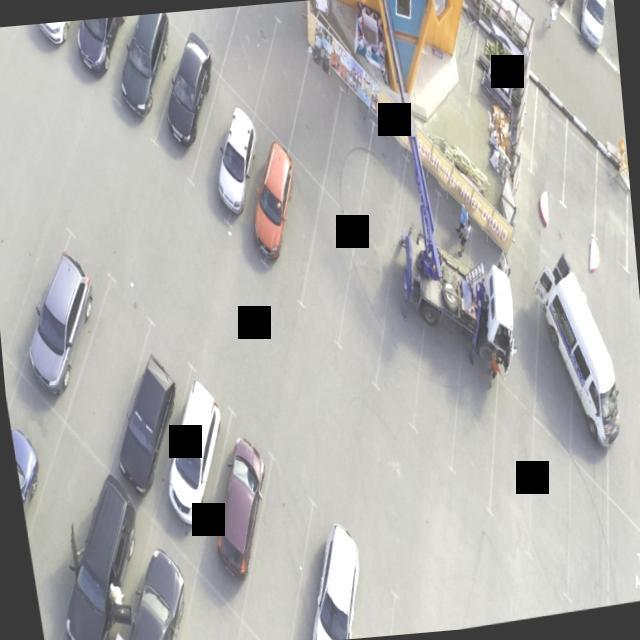car: (132, 348, 259, 557), (165, 404, 298, 598), (29, 462, 162, 640), (86, 328, 205, 516), (408, 320, 522, 508), (8, 227, 114, 416), (269, 482, 389, 640), (346, 261, 448, 436), (233, 156, 334, 331), (205, 116, 306, 286), (392, 307, 487, 464), (138, 35, 234, 186), (479, 240, 559, 420), (520, 278, 598, 462), (77, 530, 203, 640), (3, 360, 65, 580), (550, 322, 628, 489), (174, 79, 262, 227), (383, 142, 454, 314), (97, 11, 191, 134), (510, 84, 589, 224), (584, 343, 640, 532), (354, 114, 420, 274), (66, 15, 147, 94)
free: (208, 427, 350, 640), (45, 247, 176, 468), (12, 430, 110, 640), (452, 373, 560, 545), (276, 188, 371, 359), (268, 24, 360, 200), (309, 233, 411, 385), (504, 424, 598, 580), (540, 464, 631, 612), (248, 5, 328, 161), (321, 65, 386, 248), (540, 115, 619, 248), (578, 134, 639, 296), (211, 2, 289, 121), (578, 497, 640, 607), (603, 157, 640, 337), (181, 5, 254, 81), (621, 380, 640, 573)
